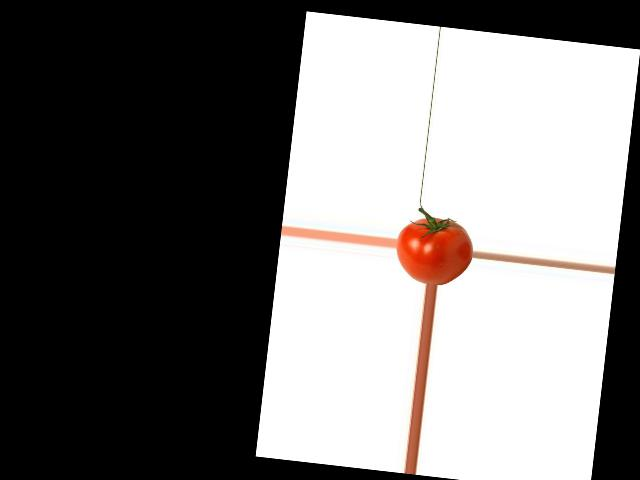tomato: (393, 213, 477, 288)
